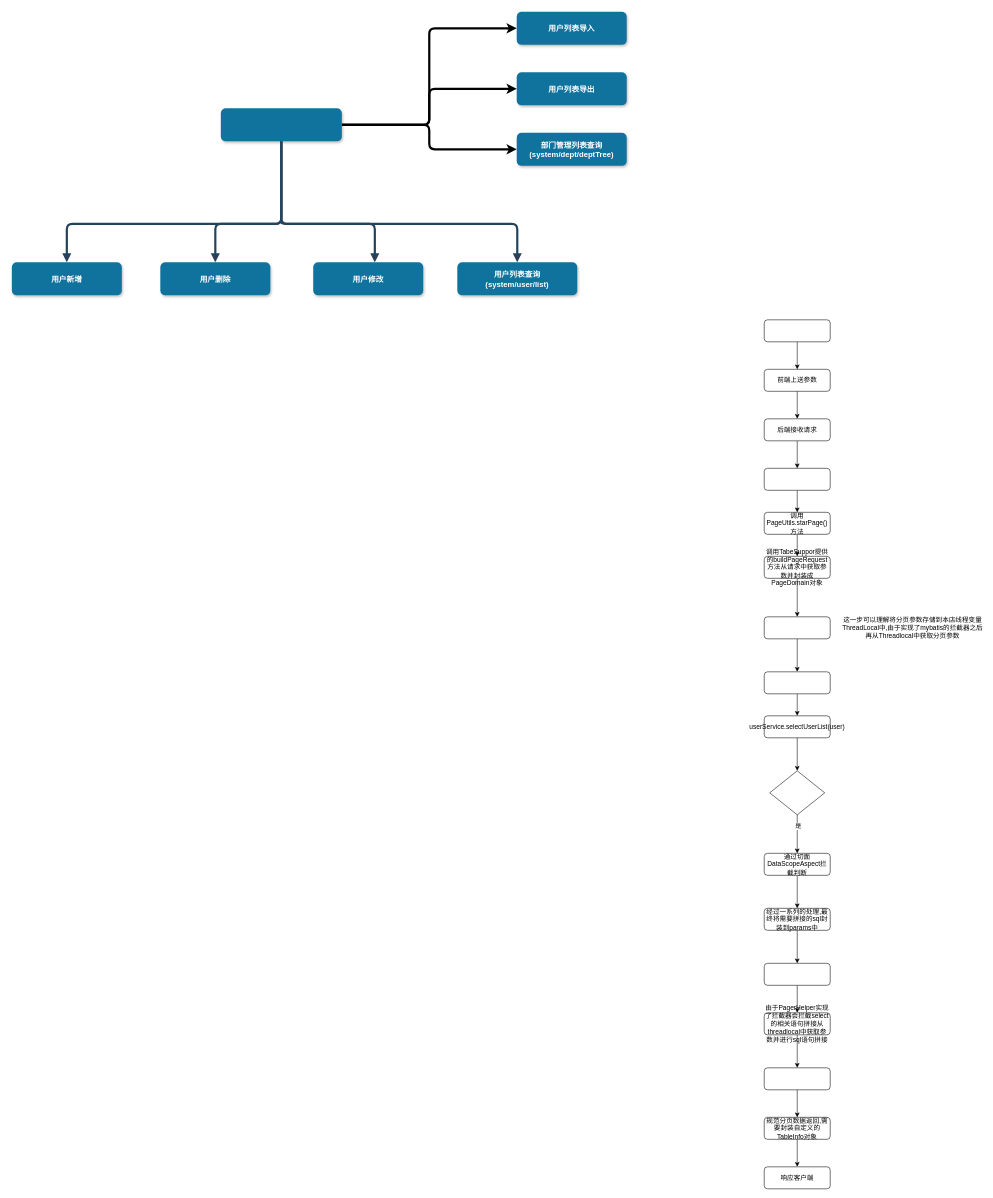
This 993x1198 diagram has some shape labels left out. Here are the shapes that lost their labels. From the top down, the centre of each, then its label:
(281,125): 用户管理
(797,330): 开始
(797,479): 调用BaseCon troller .starPage()方法
(797,627): 获取PageDomain对象,再获取分页参数,将获取到的分页参数作为PageHelper提供的starPage方法中的入参
(797,682): 结束starPage方法
(797,792): 接口实现是否有@DataScope注解
(797,974): mybatis开始执行拼接预编译语句,t通过$拼接sql语句
(797,1078): 查询数据
